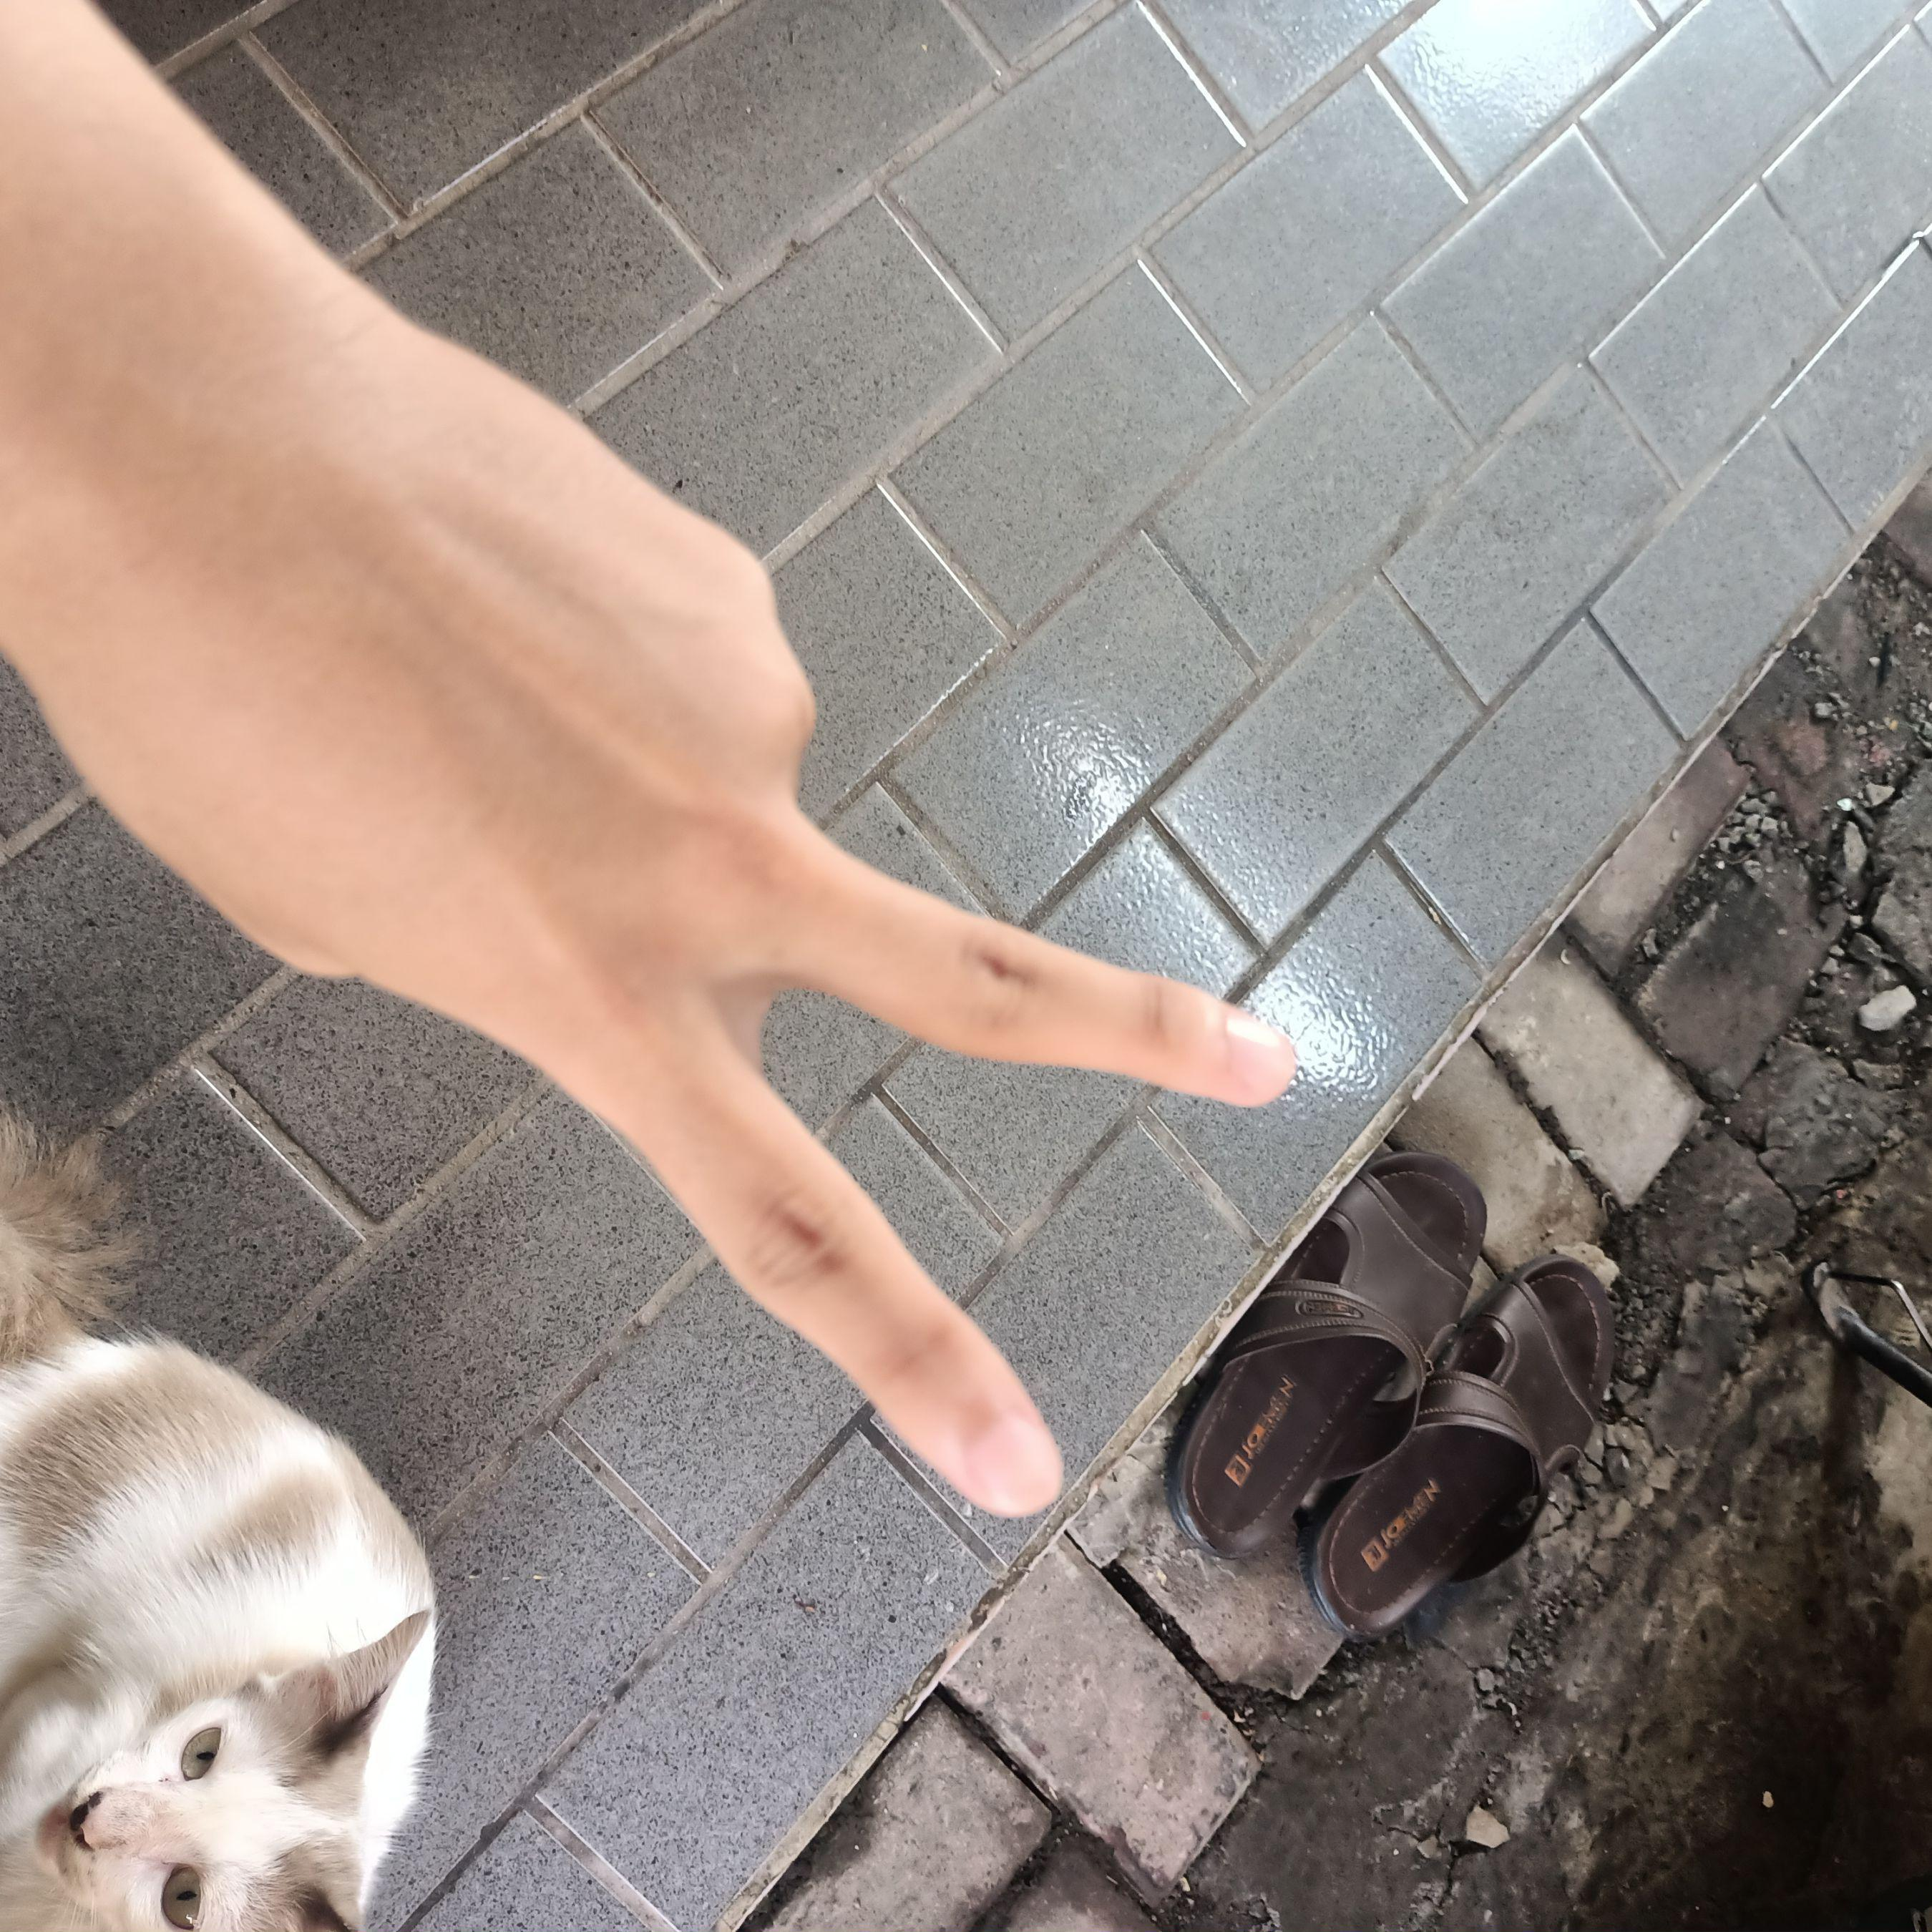scissors: (23, 251, 1309, 1548)
